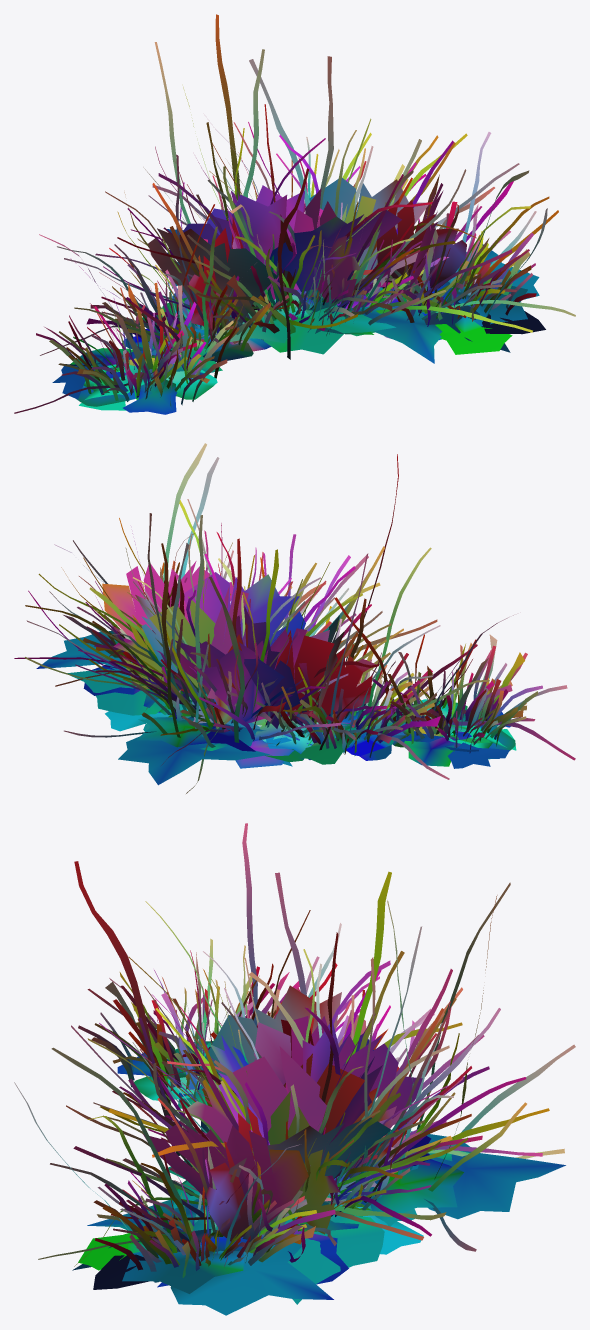
Rendered from Wild_Grass_vdilbaiia_Mid_vdilbaiia_VarK_LOD0.fbx.
The picture shows the model from 3 angles, top to bottom: view 1: azimuth 30°, elevation 25°; view 2: azimuth 150°, elevation 25°; view 3: azimuth 270°, elevation 25°; orthographic projection. The views are drawn at different scales.
Visible parts, largest first — view 1: _8efp_VarK_LOD1; view 2: _8efp_VarK_LOD1; view 3: _8efp_VarK_LOD1.
Boxes of the visible parts, x1,y1,x2,y2 form: _8efp_VarK_LOD1: (14, 14, 575, 414); _8efp_VarK_LOD1: (14, 443, 575, 793); _8efp_VarK_LOD1: (14, 823, 575, 1315).
Size of the model in its own units: 158 by 67.99 by 114.
